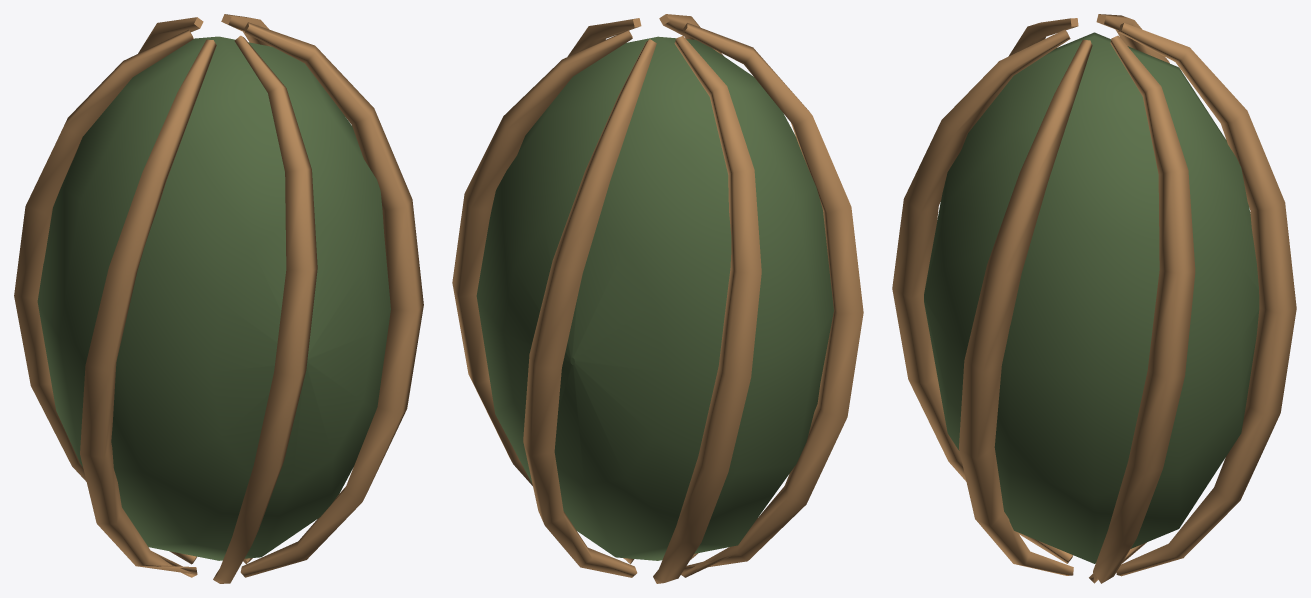
Rendered from egg_0_far.glb.
3 views of the same model, side by side, from view 1: azimuth 30°, elevation 25°; view 2: azimuth 150°, elevation 25°; view 3: azimuth 270°, elevation 25° (orthographic).
Visible parts, largest first — view 1: egg_0_far; view 2: egg_0_far; view 3: egg_0_far.
Boxes of the visible parts, bbox=[...] form: egg_0_far: bbox=[14, 14, 423, 583]; egg_0_far: bbox=[452, 14, 863, 583]; egg_0_far: bbox=[892, 14, 1296, 583].
Bounding box in the file's own units: 1.65 × 2.54 × 1.71.
